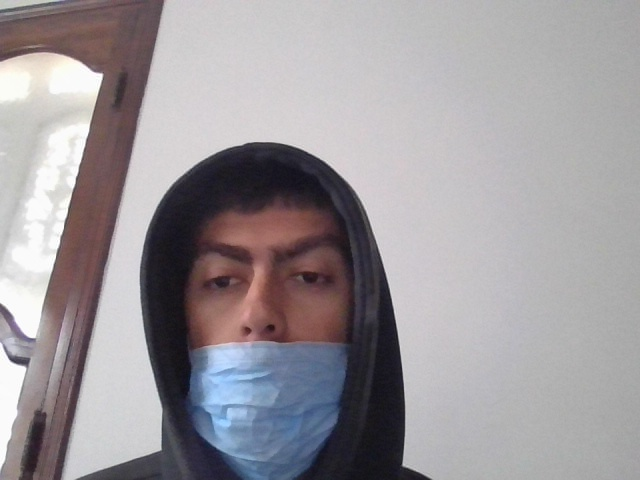mask_weared_incorrect: (171, 184, 356, 479)
